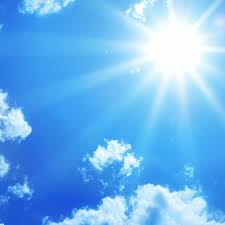sky: (1, 1, 222, 225)
